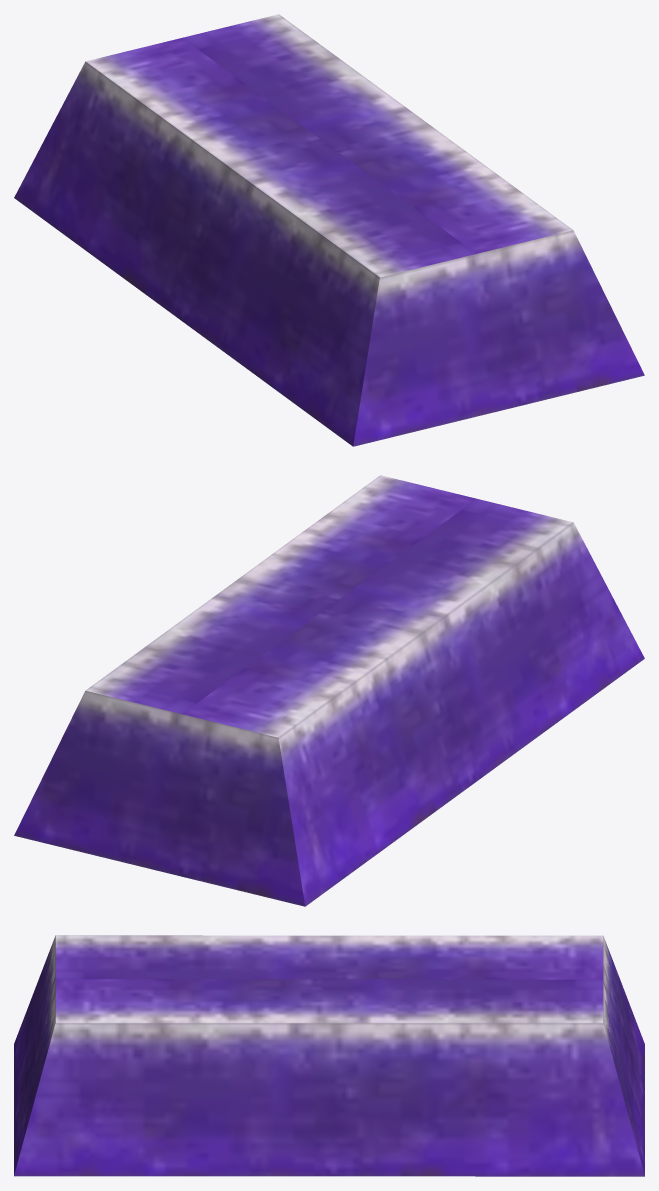
The model's file is SYN_MAGIC_BAR.glb.
The picture shows the model from 3 angles, top to bottom: view 1: azimuth 30°, elevation 25°; view 2: azimuth 150°, elevation 25°; view 3: azimuth 270°, elevation 25°; orthographic projection. The views are drawn at different scales.
Visible parts, largest first — view 1: SYN_MAGIC_BAR; view 2: SYN_MAGIC_BAR; view 3: SYN_MAGIC_BAR.
Part boxes in pixels (<box>): SYN_MAGIC_BAR: <box>14,14,644,446</box>; SYN_MAGIC_BAR: <box>14,475,644,906</box>; SYN_MAGIC_BAR: <box>14,935,644,1176</box>.
Size of the model in its own units: 0.1875 by 0.0864 by 0.3774.
1 material, 1 textured.
